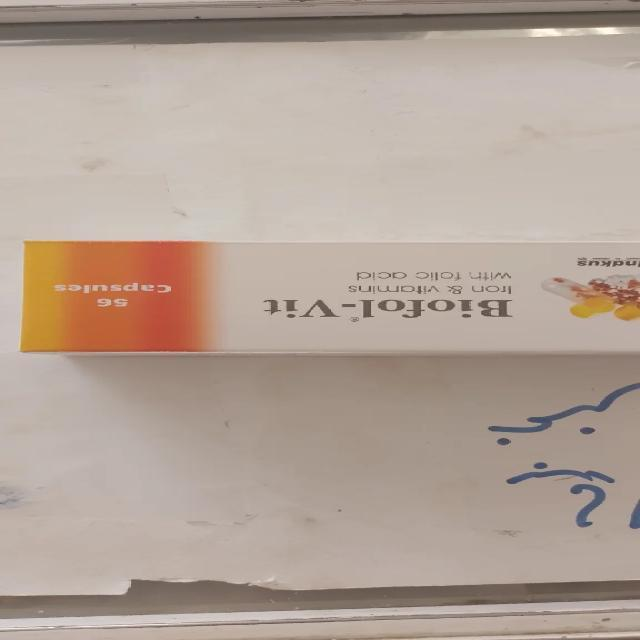drug-name: (258, 294, 512, 320)
